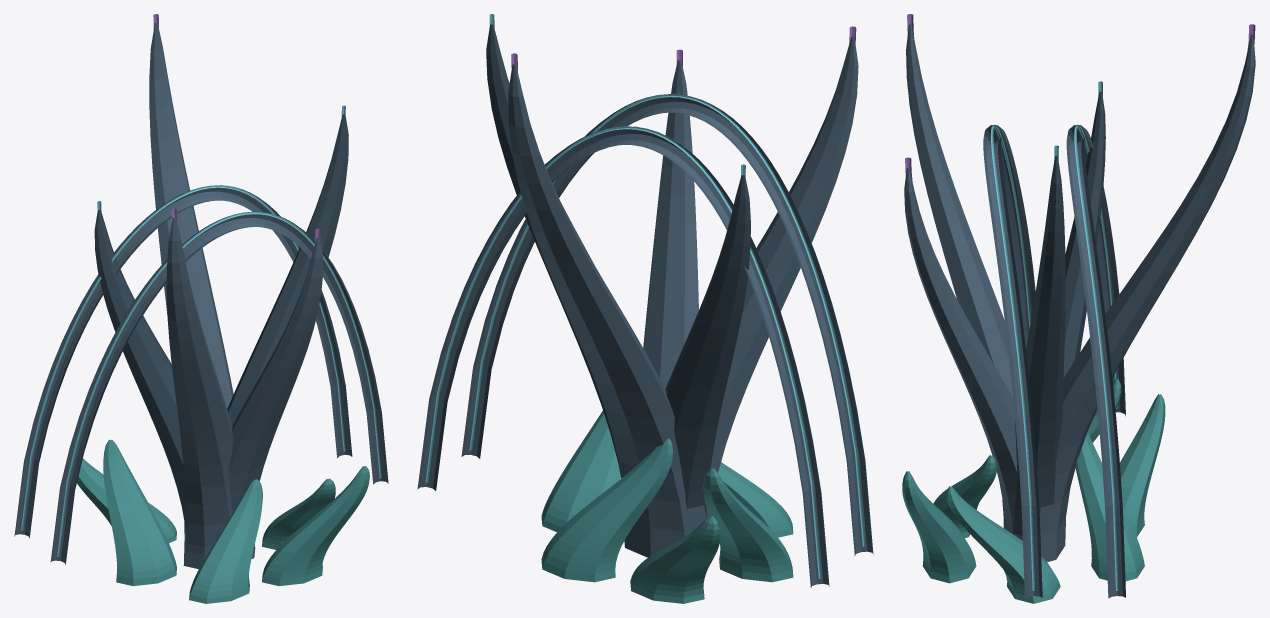
Rendered from hexcore_elven_sanctuary_03.glb.
3 renders of one model, left to right at view 1: azimuth 30°, elevation 25°; view 2: azimuth 150°, elevation 25°; view 3: azimuth 270°, elevation 25°, orthographic. The views are drawn at different scales.
Parts seen in each view (by area): view 1: world; view 2: world; view 3: world.
Boxes of the visible parts, x1,y1,x2,y2 form: world: (14,14,388,603); world: (417,14,873,603); world: (902,14,1255,603).
Size of the model in its own units: 32.22 by 42.71 by 25.44.
